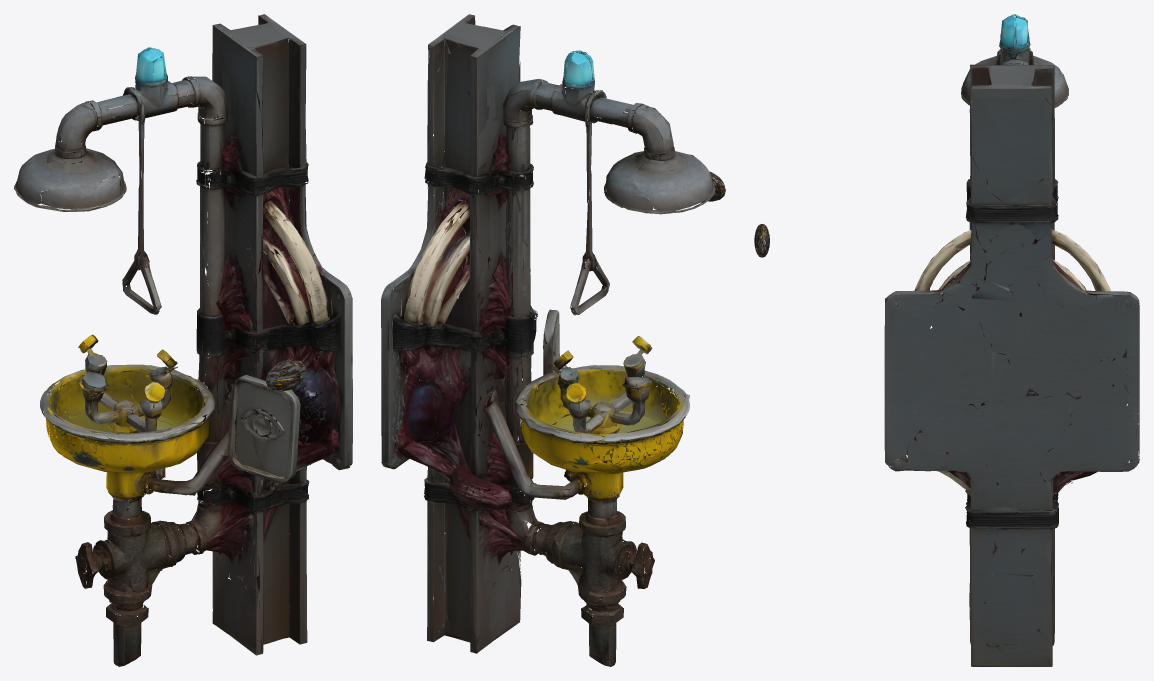
File: sump_emergency_eyewash_station.glb
The picture shows the model from 3 angles, left to right: view 1: azimuth 30°, elevation 25°; view 2: azimuth 150°, elevation 25°; view 3: azimuth 270°, elevation 25°; orthographic projection. The views are drawn at different scales.
Visible parts, largest first — view 1: node_0, HB_PULSE_00; view 2: node_0; view 3: node_0.
Part boxes in pixels (<box>): node_0: <box>14,14,352,666</box>; HB_PULSE_00: <box>265,359,306,391</box>; node_0: <box>381,14,715,666</box>; node_0: <box>884,14,1139,666</box>.
Size of the model in its own units: 0.4966 by 1.09 by 0.6468.
1 material, 1 textured.
